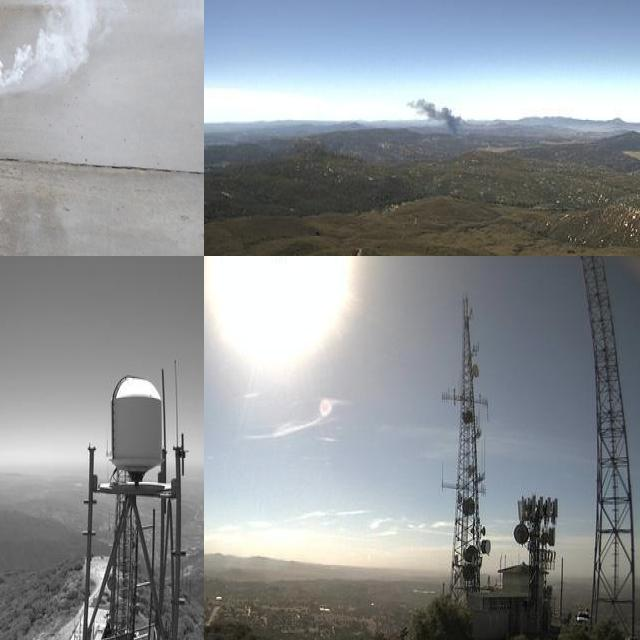smoke: (0, 0, 126, 108), (403, 93, 468, 139)
